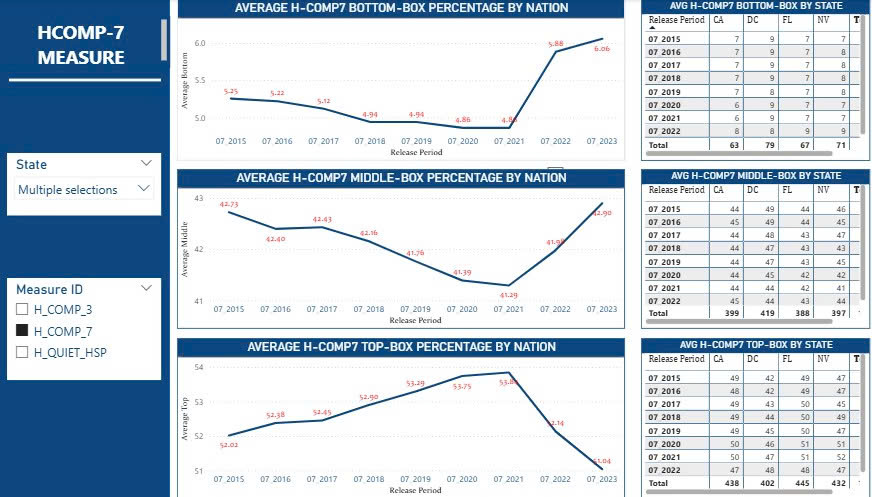

This screenshot's page, from the dashboard's own definition file:
{"tool":"powerbi","page":{"name":"H-COMP-7","canvas":[1280,720],"ordinal":3},"visuals":[{"type":"shape","box":[10,0,247.7,720],"z":0},{"type":"pivotTable","title":"AVG  H-COMP7 BOTTOM-BOX BY STATE","fields":{"Rows":["state_results.Release Period"],"Columns":["state_results.State"],"Values":["Sum(state_results.Bottom-box Percentage)"]},"box":[936.6,0,330.5,232.9],"z":1000},{"type":"lineChart","title":"AVERAGE H-COMP7 BOTTOM-BOX PERCENTAGE BY NATION","fields":{"Category":["state_results.Release Period"],"Y":["Avg(state_results.Bottom-box Percentage)"]},"box":[267.8,0,645.1,233.3],"z":2000},{"type":"slicer","fields":{"Values":["state_results.State"]},"box":[22.9,221.7,221.7,90.2],"z":3000},{"type":"lineChart","title":"AVERAGE  H-COMP7 MIDDLE-BOX PERCENTAGE BY NATION","fields":{"Category":["state_results.Release Period"],"Y":["Avg(state_results.Middle-box Percentage)"]},"box":[267.8,244.8,645.1,230.4],"z":4000},{"type":"pivotTable","title":"AVG H-COMP7 MIDDLE-BOX BY STATE","fields":{"Rows":["state_results.Release Period"],"Columns":["state_results.State"],"Values":["Sum(state_results.Middle-box Percentage)"]},"box":[936.6,245.1,330.5,230.5],"z":5000},{"type":"pivotTable","title":"AVG  H-COMP7 TOP-BOX BY STATE","fields":{"Rows":["state_results.Release Period"],"Columns":["state_results.State"],"Values":["Sum(state_results.Top-box Percentage)"]},"box":[936.6,487.8,330.5,231.7],"z":6000},{"type":"lineChart","title":"AVERAGE  H-COMP7 TOP-BOX PERCENTAGE BY NATION","fields":{"Category":["state_results.Release Period"],"Y":["Avg(state_results.Top-box Percentage)"]},"box":[267.8,488.2,645.1,231.8],"z":7000},{"type":"slicer","fields":{"Values":["state_results.Measure ID"]},"box":[22.9,402.2,221.7,146.8],"z":8000},{"type":"textbox","box":[10.1,24.5,247.7,74.9],"z":9000},{"type":"shape","box":[25.9,83.5,218.9,66.2],"z":10000}]}

Visuals, with their boxes in screenshot pixels (x1, y1, x2, y2), scaled from the page's 1280x720 canvas onto the 872x497 screenshot:
shape: <region>7, 0, 176, 496</region>
"AVG  H-COMP7 BOTTOM-BOX BY STATE" pivotTable: <region>638, 0, 863, 161</region>
"AVERAGE H-COMP7 BOTTOM-BOX PERCENTAGE BY NATION" lineChart: <region>182, 0, 622, 161</region>
slicer - state_results.State: <region>16, 153, 167, 215</region>
"AVERAGE  H-COMP7 MIDDLE-BOX PERCENTAGE BY NATION" lineChart: <region>182, 169, 622, 328</region>
"AVG H-COMP7 MIDDLE-BOX BY STATE" pivotTable: <region>638, 169, 863, 328</region>
"AVG  H-COMP7 TOP-BOX BY STATE" pivotTable: <region>638, 337, 863, 496</region>
"AVERAGE  H-COMP7 TOP-BOX PERCENTAGE BY NATION" lineChart: <region>182, 337, 622, 496</region>
slicer - state_results.Measure ID: <region>16, 278, 167, 379</region>
textbox: <region>7, 17, 176, 69</region>
shape: <region>18, 58, 167, 103</region>
